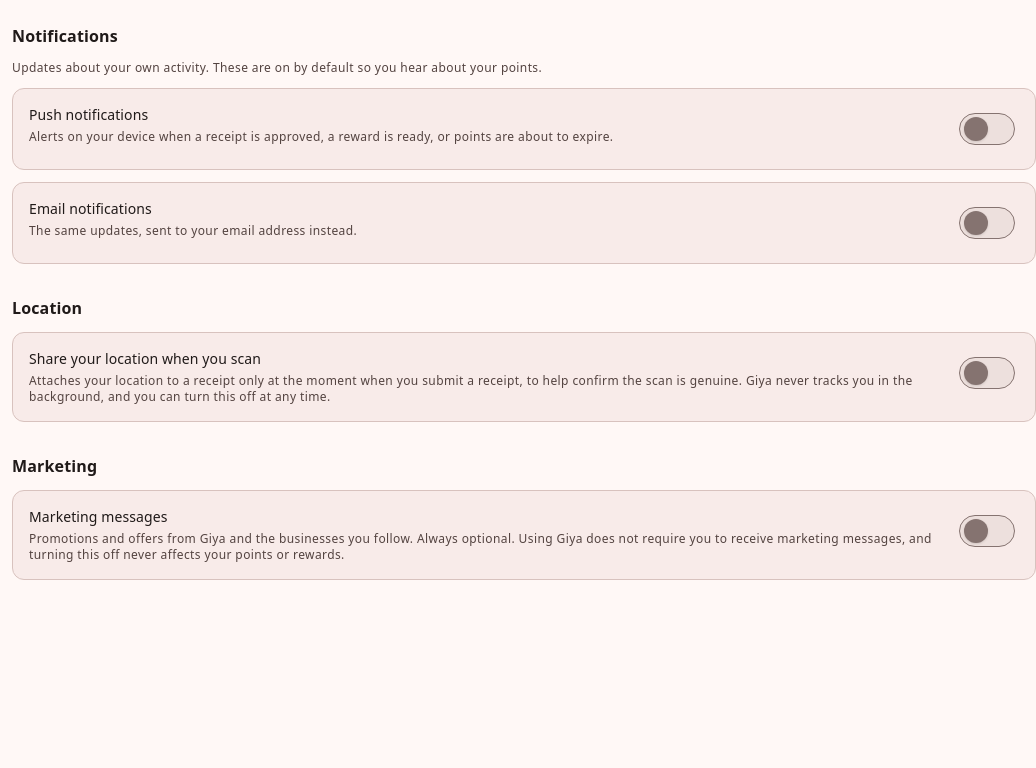
Test case: a write that fails › CRITICAL: reverting one toggle does not undo a DIFFERENT one that succeeded
Click the switch named "Marketing messages" at (987, 531), box [955, 507, 1019, 555]
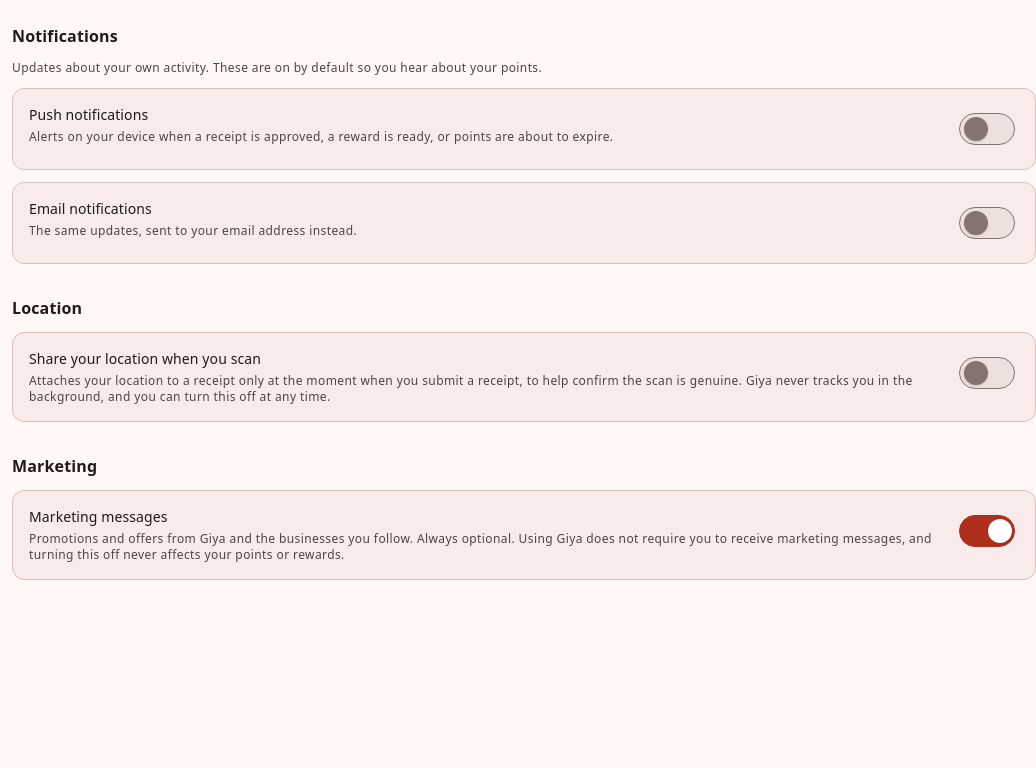
Expected: the switch named "Marketing messages" is checked, [955, 507, 1019, 555]
Click the switch named "Push notifications" at (987, 129), box [955, 105, 1019, 153]
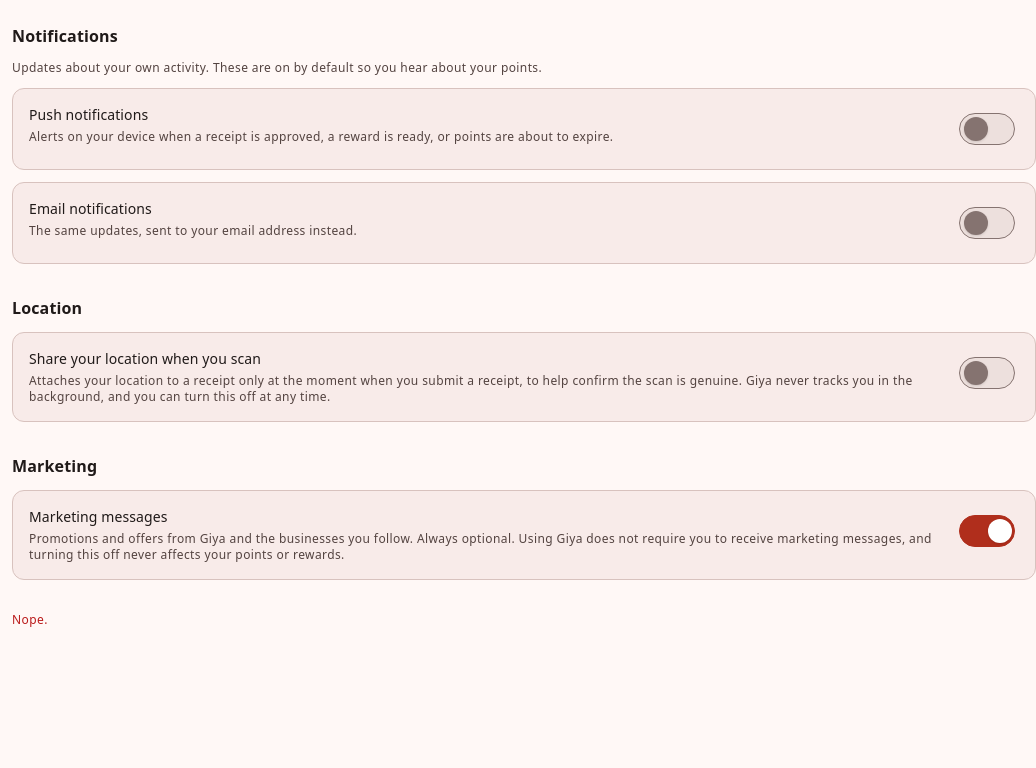
Expected: the message "Nope." is shown, [12, 611, 48, 628]
